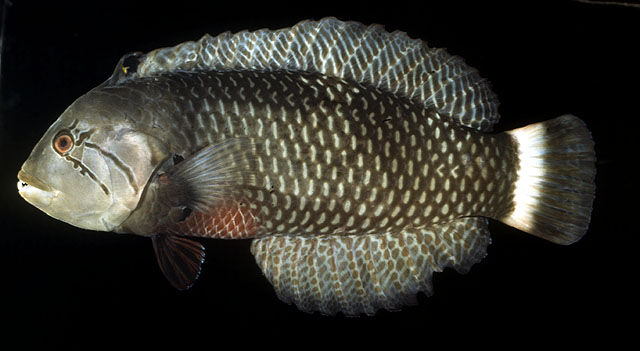fish: (15, 19, 597, 317)
